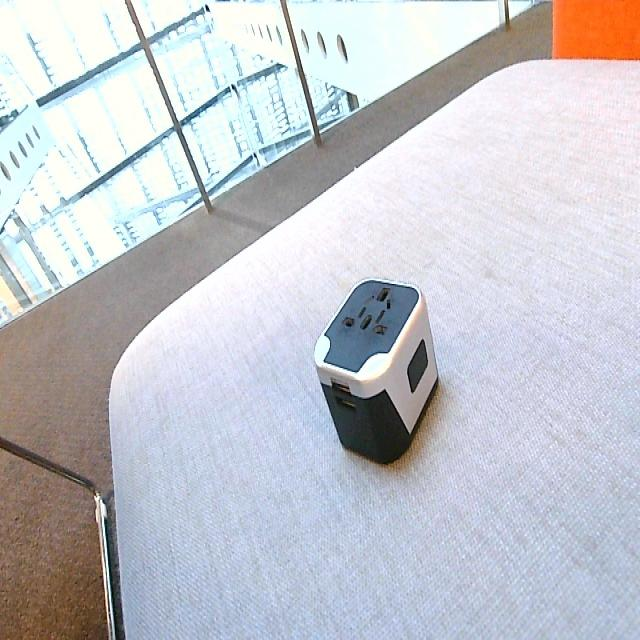adapter: (312, 276, 439, 464)
